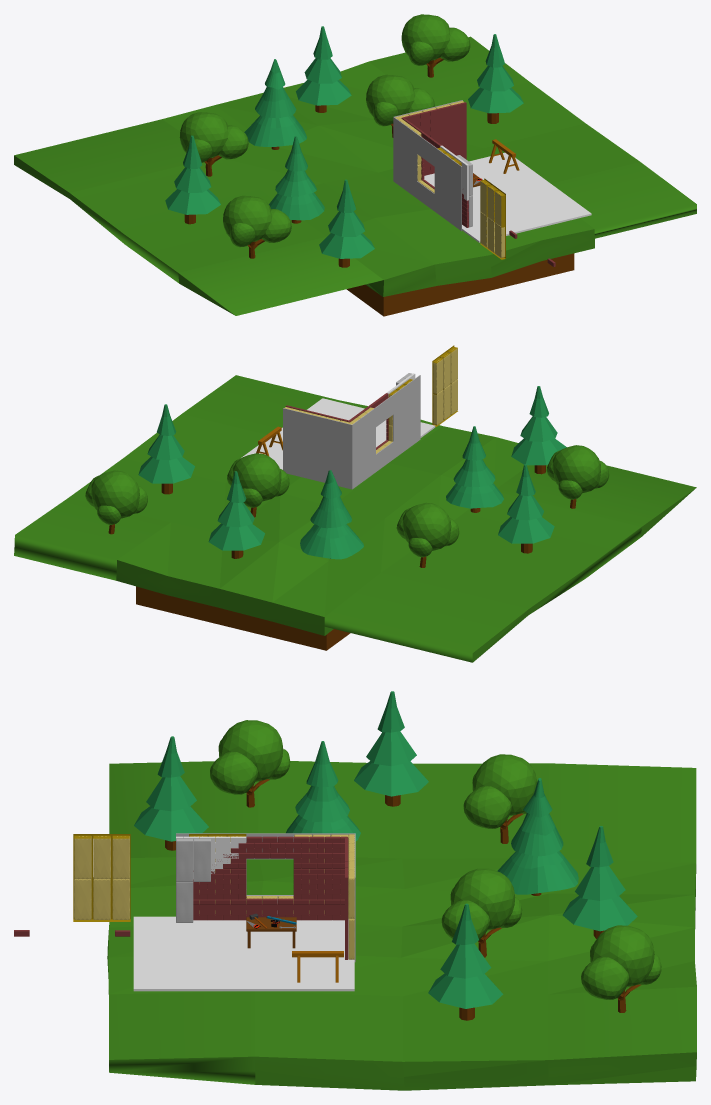
3 views of the same model, one above another, from view 1: azimuth 30°, elevation 25°; view 2: azimuth 150°, elevation 25°; view 3: azimuth 270°, elevation 25° (orthographic). The views are drawn at different scales.
Parts seen in each view (by area): view 1: Ground, Cube, Cube.075, Cylinder.002, Icosphere.004, Icosphere.002, Icosphere.001, Cylinder.001, Icosphere.003, Cylinder.008, Cylinder.004, Cylinder (+2 smaller); view 2: Ground, Cube.088, Cube.075, Cylinder.002, Cylinder.001, Icosphere.001, Icosphere.002, Icosphere.004, Cylinder.008, Cylinder.004, Cylinder.007, Icosphere.003 (+3 smaller); view 3: Ground, Cube, Cube.078, Cylinder.002, Icosphere.002, Icosphere.004, Icosphere.001, Icosphere.003, Cylinder.008, Cylinder.004, Cylinder.007, Cylinder (+16 smaller).
Boxes of the visible parts, x1,y1,x2,y2 form: Ground: (14, 36, 696, 316); Cube: (424, 152, 591, 242); Cube.075: (393, 117, 461, 231); Cylinder.002: (244, 59, 306, 149); Icosphere.004: (401, 14, 470, 77); Icosphere.002: (223, 195, 291, 258); Icosphere.001: (179, 112, 248, 176); Cylinder.001: (269, 136, 324, 223); Icosphere.003: (366, 74, 434, 137); Cylinder.008: (468, 34, 523, 123); Cylinder.004: (165, 135, 220, 224); Cylinder: (319, 179, 374, 267); Ground: (14, 375, 696, 662); Cube.088: (283, 408, 352, 489); Cube.075: (352, 375, 420, 488); Cylinder.002: (300, 470, 363, 559); Cylinder.001: (446, 426, 503, 512); Icosphere.001: (396, 502, 459, 567); Icosphere.002: (546, 445, 609, 508); Icosphere.004: (85, 470, 147, 534); Cylinder.008: (138, 404, 194, 494); Cylinder.004: (498, 464, 554, 553); Cylinder.007: (208, 471, 264, 558); Icosphere.003: (227, 453, 289, 517); Ground: (107, 761, 696, 1090); Cube: (133, 916, 354, 991); Cube.078: (73, 834, 130, 921); Cylinder.002: (497, 778, 578, 895); Icosphere.002: (210, 720, 290, 807); Icosphere.004: (581, 925, 661, 1012); Icosphere.001: (463, 754, 536, 843); Icosphere.003: (441, 868, 522, 957); Cylinder.008: (428, 903, 503, 1020); Cylinder.004: (354, 691, 428, 806); Cylinder.007: (562, 826, 637, 938); Cylinder: (134, 736, 208, 850).
Size of the model in its own units: 90.84 by 25.18 by 88.09.
